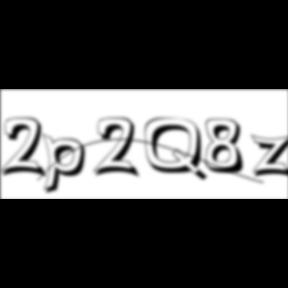2: (0, 117, 50, 181), (94, 117, 144, 181)
8: (206, 117, 250, 176)
Q: (145, 117, 211, 184)
p: (42, 132, 92, 198)
